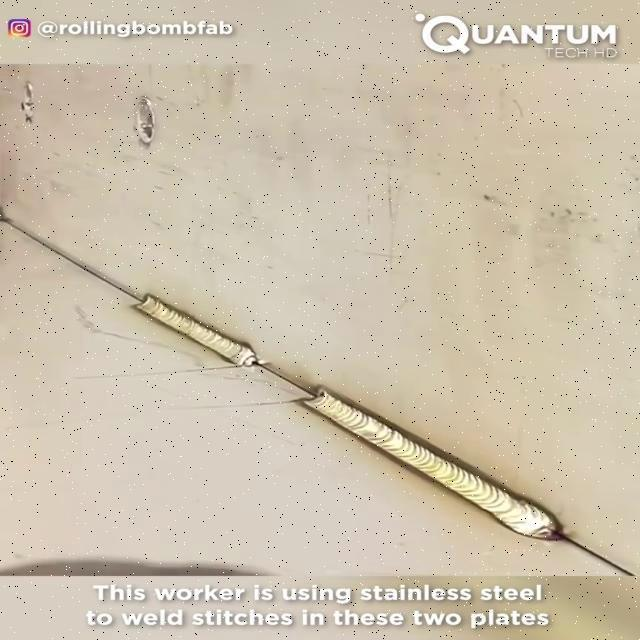Good Welding: (136, 295, 258, 365)
